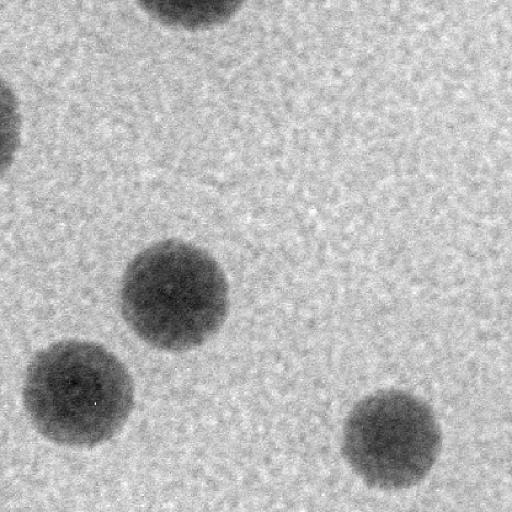Nanoparticles: (19, 332, 144, 456), (115, 235, 238, 357), (339, 380, 449, 495), (136, 0, 244, 41), (0, 74, 22, 181)
